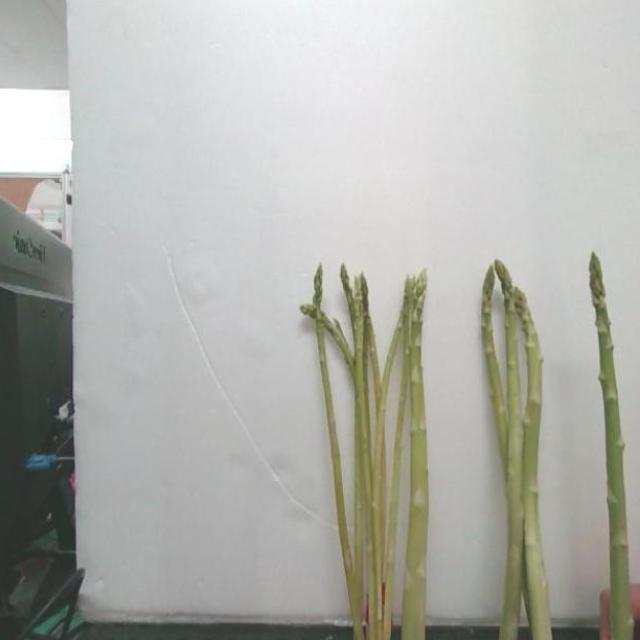aspargus: (590, 256, 631, 640), (515, 284, 554, 640)
